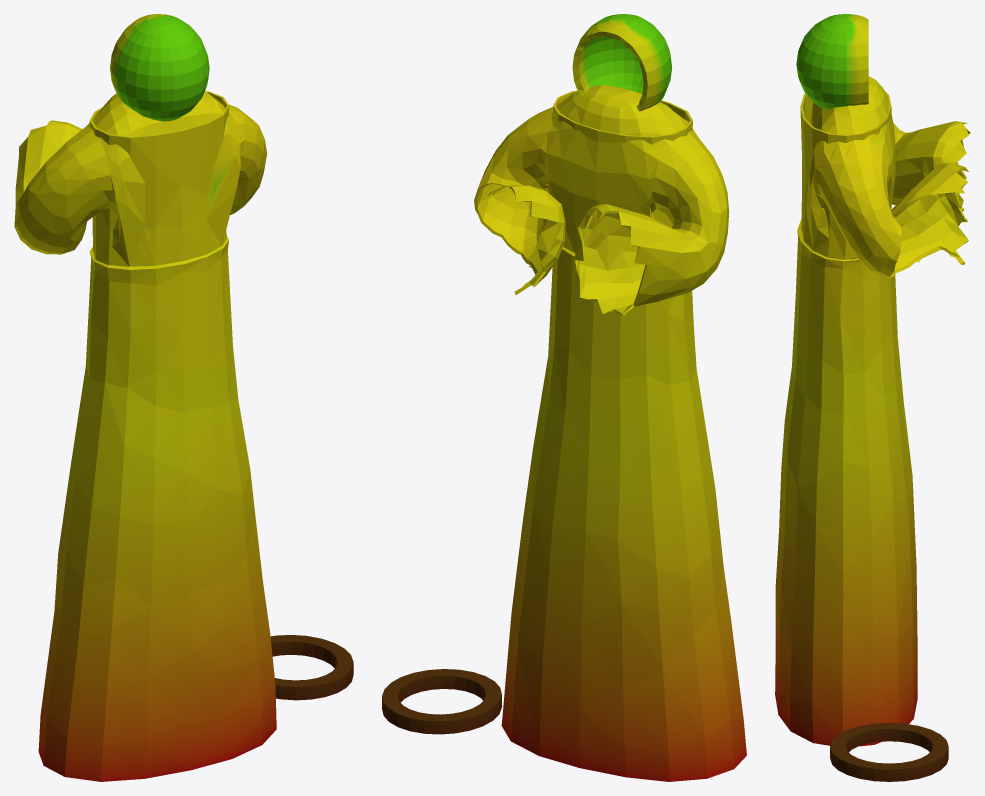
File: statue_arm_broken.glb
3 views of the same model, side by side, from view 1: azimuth 30°, elevation 25°; view 2: azimuth 150°, elevation 25°; view 3: azimuth 270°, elevation 25° (orthographic). The views are drawn at different scales.
Parts seen in each view (by area): view 1: statue_arm_broken; view 2: statue_arm_broken; view 3: statue_arm_broken.
Part boxes in pixels (x1=…): statue_arm_broken: x1=14, y1=14, x2=353, y2=781; statue_arm_broken: x1=382, y1=14, x2=746, y2=781; statue_arm_broken: x1=775, y1=14, x2=970, y2=781.
Size of what is drawn, in the model's own units: 2.18 by 4.6 by 1.2.
